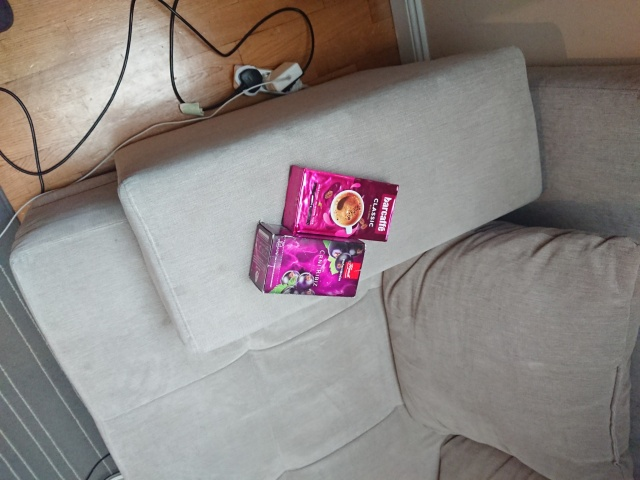Barcaffe Classic Original 225g: (278, 163, 402, 244)
Franck Black Currant Tea 60g: (245, 218, 368, 299)
